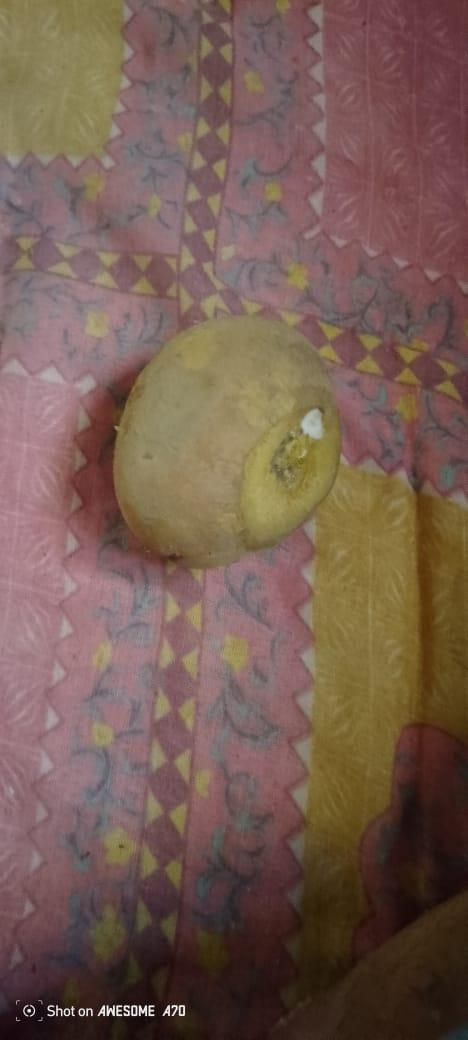non-mango: (110, 311, 349, 563)
